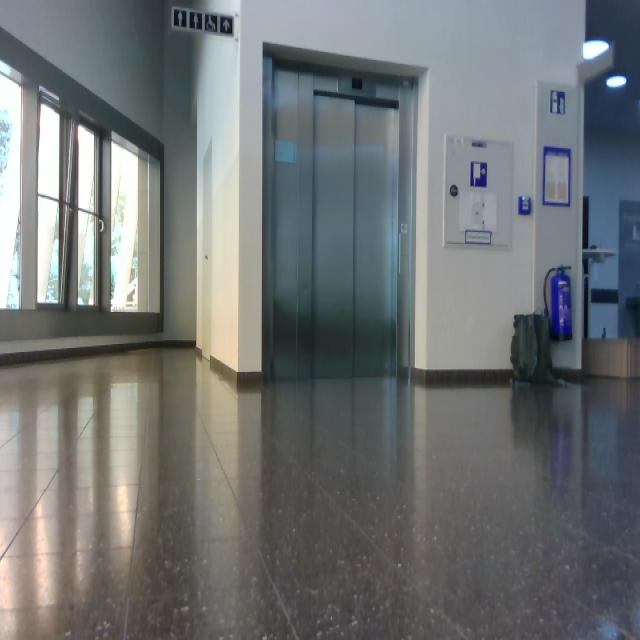door: (264, 58, 419, 381)
fire extinguisher: (544, 265, 573, 342)
light bulb: (583, 40, 610, 61), (606, 74, 627, 89)
tiled floor: (1, 344, 639, 638)
window: (1, 56, 164, 337)
